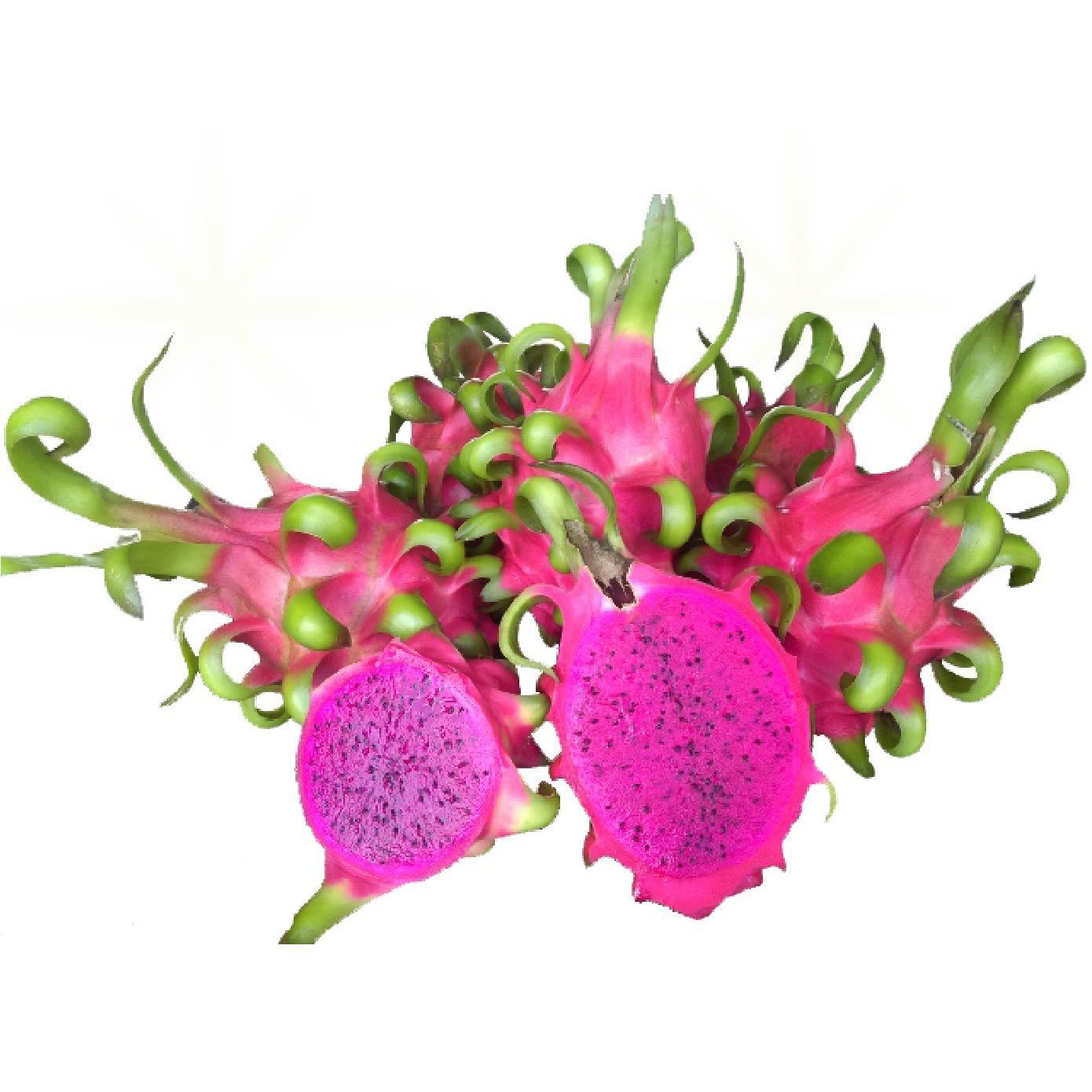dragon-fruit: (552, 573, 812, 897), (710, 471, 980, 737), (500, 340, 709, 636), (208, 489, 491, 689), (296, 650, 502, 883), (707, 404, 856, 538), (410, 369, 524, 531)
